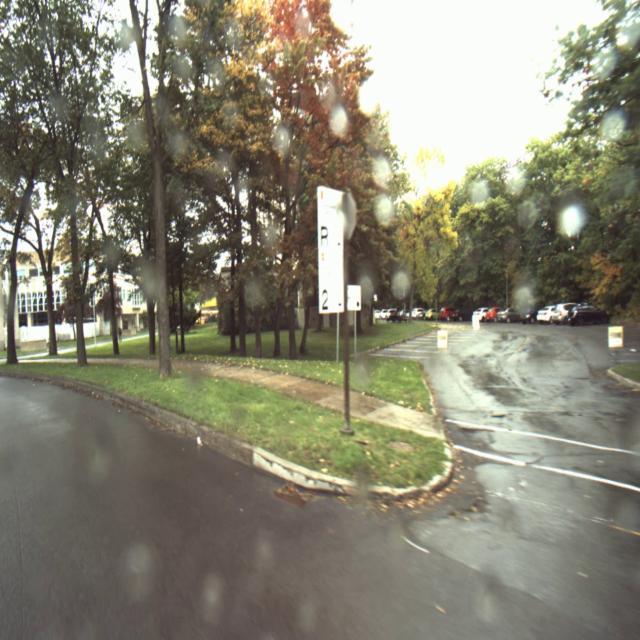car: (572, 304, 596, 322), (500, 306, 516, 322), (555, 304, 567, 323), (540, 304, 550, 322)
